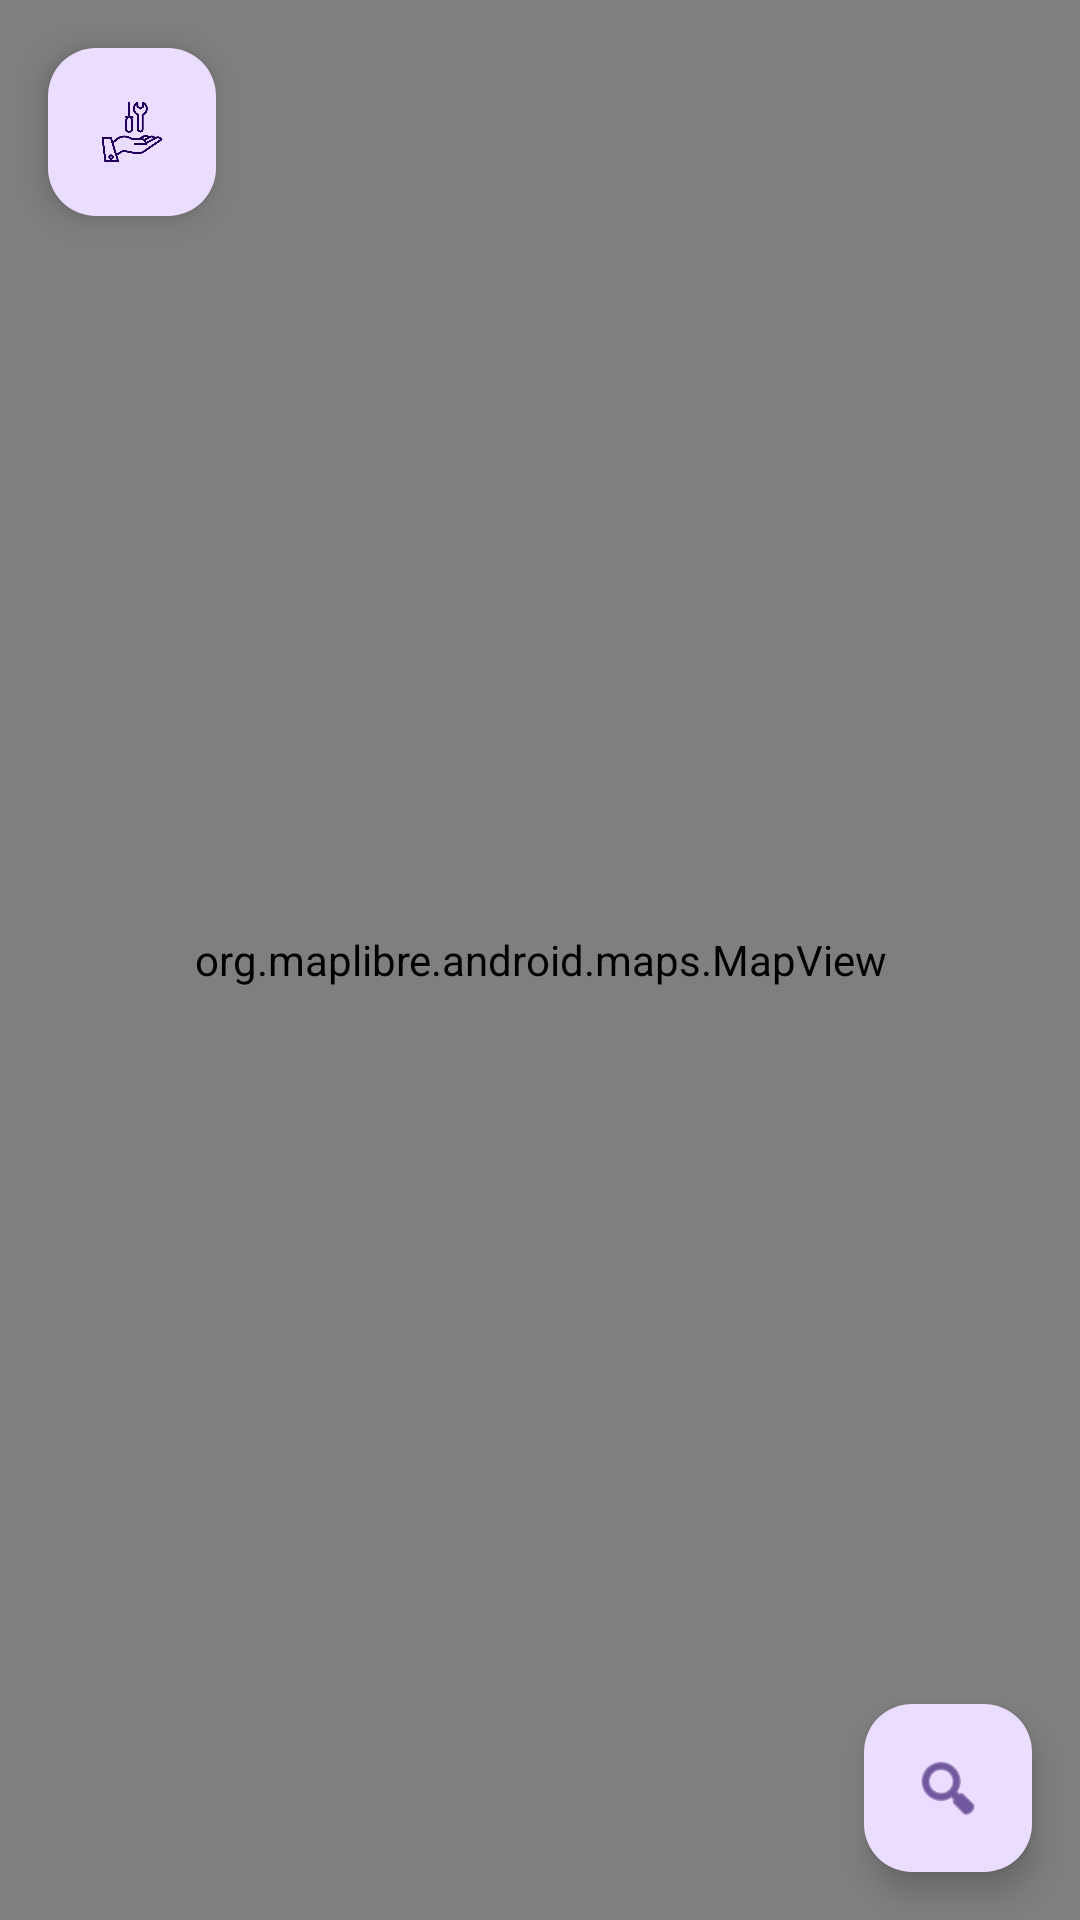

Icons on this 1080 × 1920 Android screen, each with the point to tap as point (x, y):
Search: point (948, 1788)
